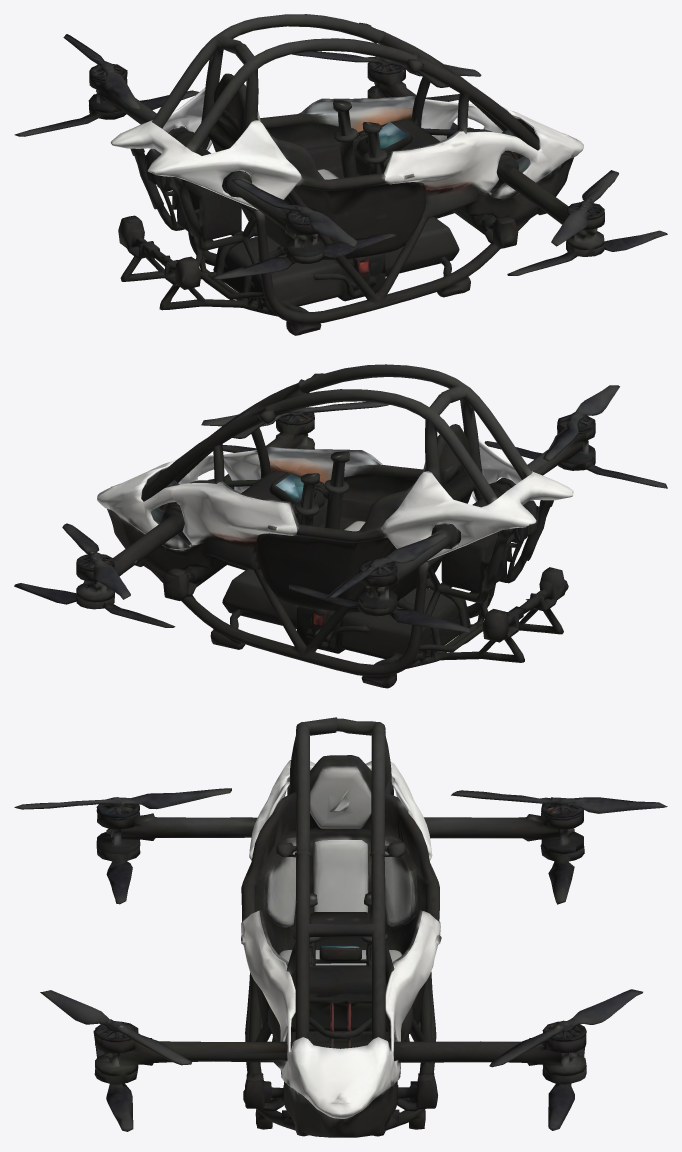
The model's file is jetson-one-mobile-v01.glb.
The picture shows the model from 3 angles, top to bottom: view 1: azimuth 30°, elevation 25°; view 2: azimuth 150°, elevation 25°; view 3: azimuth 270°, elevation 25°; orthographic projection. The views are drawn at different scales.
Visible parts, largest first — view 1: tripo_part_0, tripo_part_7, tripo_part_1, tripo_part_4, tripo_part_9, tripo_part_2, tripo_part_10, tripo_part_13, tripo_part_26, tripo_part_3, tripo_part_18, tripo_part_new_0_3 (+10 smaller); view 2: tripo_part_0, tripo_part_7, tripo_part_1, tripo_part_4, tripo_part_9, tripo_part_16, tripo_part_10, tripo_part_3, tripo_part_13, tripo_part_new_0_0_0, tripo_part_8, tripo_part_18 (+10 smaller); view 3: tripo_part_0, tripo_part_7, tripo_part_2, tripo_part_16, tripo_part_3, tripo_part_13, tripo_part_1, tripo_part_8, tripo_part_new_0_1_0, tripo_part_17, tripo_part_18, tripo_part_15 (+6 smaller).
Part boxes in pixels (x1,y1,x2,y2): tripo_part_0: [110, 73, 583, 259]; tripo_part_7: [151, 14, 539, 192]; tripo_part_1: [131, 148, 530, 335]; tripo_part_4: [213, 217, 459, 307]; tripo_part_9: [118, 215, 257, 311]; tripo_part_2: [491, 157, 605, 256]; tripo_part_10: [160, 180, 242, 242]; tripo_part_13: [224, 170, 324, 257]; tripo_part_26: [210, 233, 395, 279]; tripo_part_3: [88, 64, 187, 136]; tripo_part_18: [231, 179, 357, 247]; tripo_part_new_0_3: [333, 100, 367, 177]; tripo_part_0: [97, 424, 573, 612]; tripo_part_7: [141, 364, 532, 526]; tripo_part_1: [151, 500, 553, 688]; tripo_part_4: [222, 569, 470, 659]; tripo_part_9: [437, 567, 568, 662]; tripo_part_16: [76, 507, 189, 609]; tripo_part_10: [440, 532, 523, 595]; tripo_part_3: [358, 522, 459, 627]; tripo_part_13: [496, 414, 595, 487]; tripo_part_new_0_0_0: [289, 584, 470, 632]; tripo_part_8: [62, 523, 130, 599]; tripo_part_18: [543, 385, 619, 461]; tripo_part_0: [241, 755, 441, 1137]; tripo_part_7: [276, 717, 405, 1040]; tripo_part_2: [94, 1022, 293, 1103]; tripo_part_16: [388, 1028, 586, 1084]; tripo_part_3: [424, 803, 583, 854]; tripo_part_13: [96, 804, 257, 853]; tripo_part_1: [245, 785, 436, 1130]; tripo_part_8: [489, 989, 642, 1067]; tripo_part_new_0_1_0: [40, 990, 191, 1065]; tripo_part_17: [451, 790, 667, 813]; tripo_part_18: [14, 788, 231, 809]; tripo_part_15: [397, 1073, 437, 1111].
Size of the model in its own units: 0.9204 by 0.5139 by 0.9882.
Materials: 1 (1 with a texture image).
